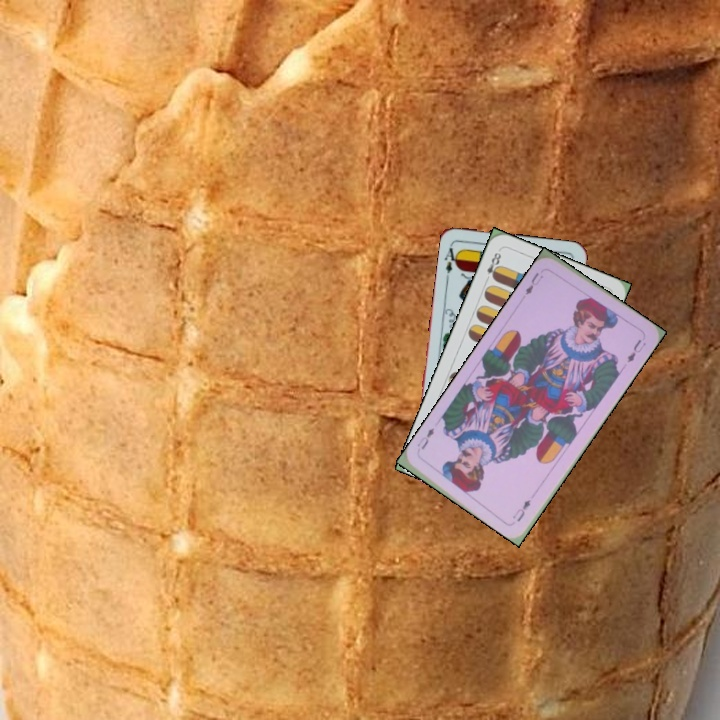E8: (481, 248, 504, 285)
EA: (441, 240, 462, 281)
EU: (521, 269, 546, 298), (509, 495, 533, 524)
